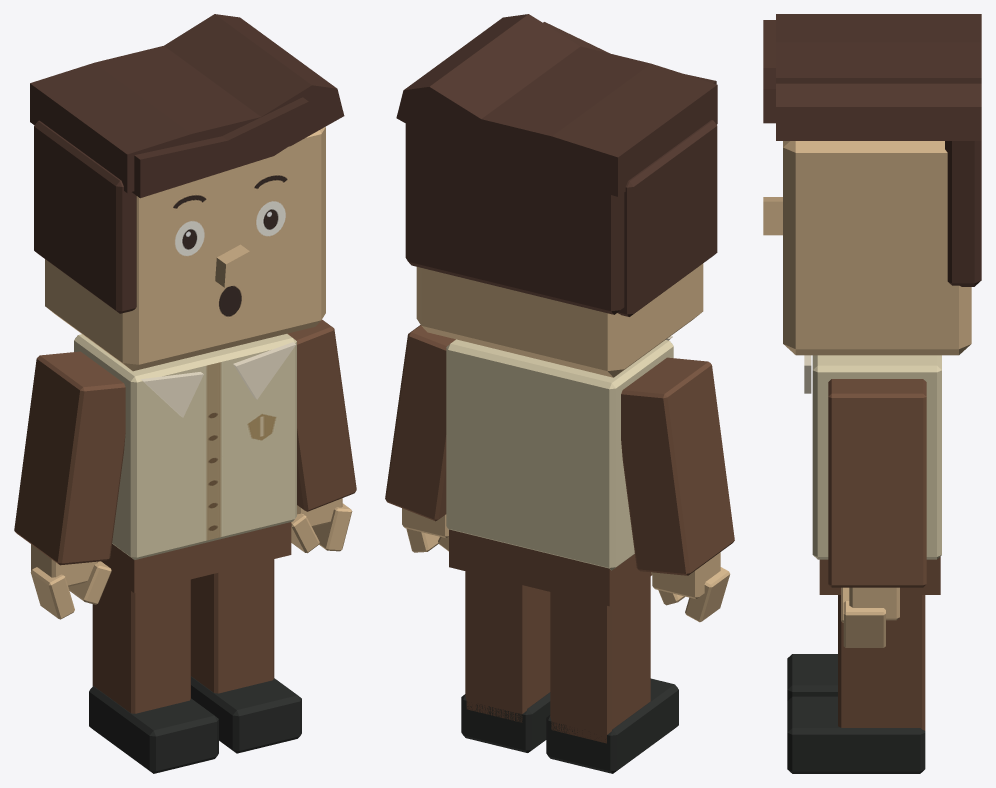
File: surpreso.glb
3 renders of one model, left to right at view 1: azimuth 30°, elevation 25°; view 2: azimuth 150°, elevation 25°; view 3: azimuth 270°, elevation 25°, orthographic. The views are drawn at different scales.
Visible parts, largest first — view 1: Explorador_HelloYotta; view 2: Explorador_HelloYotta; view 3: Explorador_HelloYotta.
Boxes of the visible parts, box(x1,y1,x2,y2) form: Explorador_HelloYotta: box(14, 14, 356, 773); Explorador_HelloYotta: box(385, 14, 734, 773); Explorador_HelloYotta: box(763, 14, 981, 773).
Bounding box in the file's own units: 1.31 × 2.72 × 0.775.
Materials: 1 (1 with a texture image).
